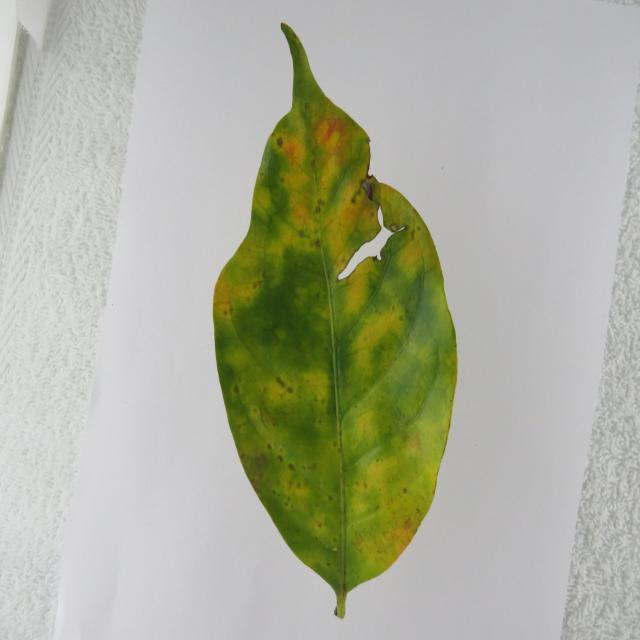DeficienciaNutricional-Fosforo: (214, 23, 458, 618)
